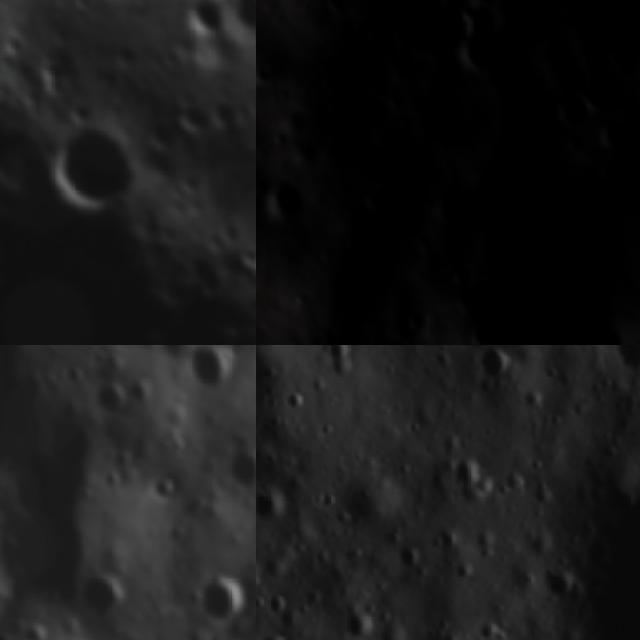crater: (484, 348, 640, 640), (32, 108, 156, 230), (322, 453, 418, 549), (178, 135, 256, 236), (433, 441, 502, 510), (196, 570, 255, 632), (74, 573, 134, 629), (177, 345, 238, 398), (532, 553, 586, 609), (460, 345, 525, 390), (581, 64, 629, 120), (174, 0, 233, 45), (256, 472, 297, 534), (213, 445, 256, 502), (259, 172, 306, 222), (459, 515, 507, 563), (171, 94, 219, 141), (421, 516, 468, 563), (384, 532, 431, 579), (334, 595, 383, 640), (89, 377, 136, 421), (366, 605, 423, 640), (510, 379, 555, 423), (594, 345, 640, 388), (546, 93, 596, 132), (140, 469, 184, 511), (575, 313, 629, 345), (256, 536, 281, 605), (468, 605, 514, 640), (275, 381, 314, 420), (204, 95, 242, 135), (595, 114, 632, 151), (398, 299, 430, 338), (262, 588, 296, 622), (318, 345, 364, 369), (230, 239, 256, 275), (256, 623, 300, 640), (524, 452, 550, 478), (256, 387, 268, 434), (377, 331, 409, 345)
